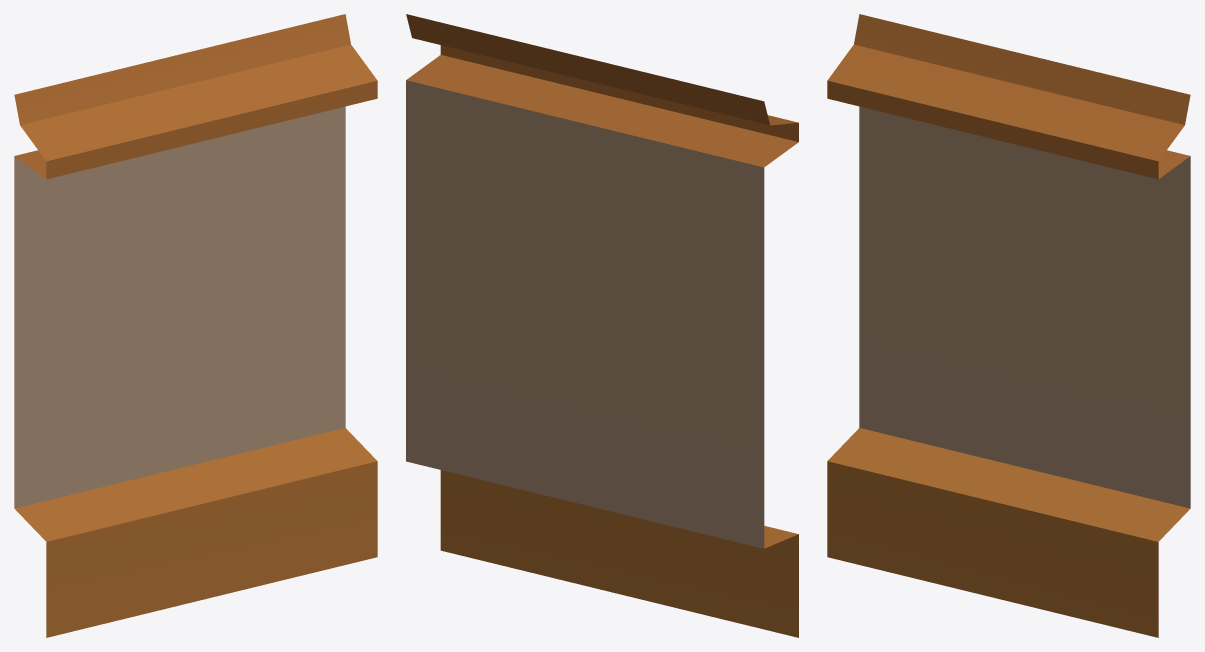
The model's file is Wall_plain_B.fbx.
3 views of the same model, side by side, from view 1: azimuth 30°, elevation 25°; view 2: azimuth 150°, elevation 25°; view 3: azimuth 330°, elevation 25° (orthographic). The views are drawn at different scales.
Parts seen in each view (by area): view 1: Wall_plain_B; view 2: Wall_plain_B; view 3: Wall_plain_B.
Part boxes in pixels (left/top/right/bottom): Wall_plain_B: left=14, top=14, right=377, bottom=637; Wall_plain_B: left=406, top=14, right=798, bottom=637; Wall_plain_B: left=827, top=14, right=1190, bottom=637.
Size of the model in its own units: 200 by 300 by 33.54.
